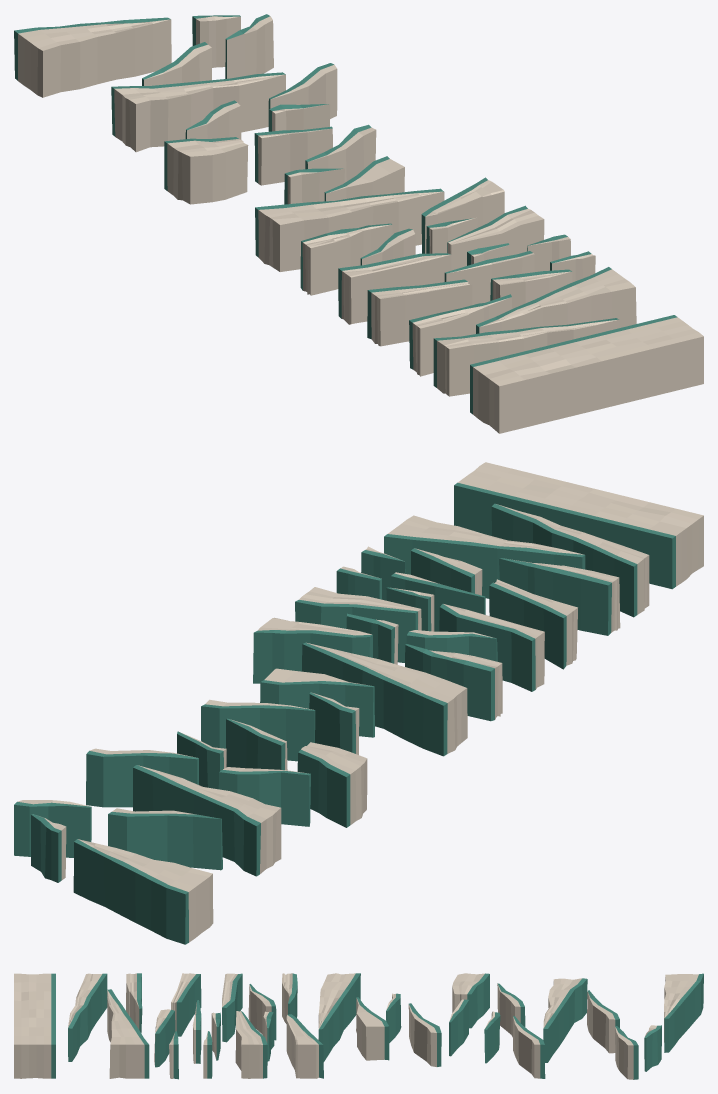
The model's file is contra_level_5.fbx.
3 renders of one model, top to bottom at view 1: azimuth 30°, elevation 25°; view 2: azimuth 150°, elevation 25°; view 3: azimuth 270°, elevation 25°, orthographic. The views are drawn at different scales.
Visible parts, largest first — view 1: Ground, Ground.029, Ground.025, Ground.016, Ground.002, Ground.001, Ground.021, Ground.005, Ground.010, Ground.014, Ground.003, Ground.020 (+17 smaller); view 2: Ground, Ground.029, Ground.016, Ground.025, Ground.002, Ground.001, Ground.026, Ground.003, Ground.021, Ground.010, Ground.015, Ground.024 (+18 smaller); view 3: Ground, Ground.002, Ground.016, Ground.025, Ground.029, Ground.001, Ground.015, Ground.011, Ground.017, Ground.021, Ground.019, Ground.024 (+18 smaller).
Part boxes in pixels (x1,y1,x2,y2): Ground: (470,315,703,433); Ground.029: (14,17,171,97); Ground.025: (111,72,285,152); Ground.016: (255,188,444,271); Ground.002: (476,267,636,333); Ground.001: (433,318,619,396); Ground.021: (164,137,248,204); Ground.005: (367,279,472,346); Ground.010: (338,253,451,324); Ground.014: (300,223,392,295); Ground.003: (409,294,511,376); Ground.020: (254,126,332,185); Ground: (454,462,703,589); Ground.029: (73,839,213,944); Ground.016: (302,642,467,756); Ground.025: (133,765,281,876); Ground.002: (384,515,585,598); Ground.001: (491,503,649,617); Ground.026: (108,808,222,870); Ground.003: (499,558,620,635); Ground.021: (297,742,367,827); Ground.010: (439,604,544,691); Ground.015: (253,617,372,683); Ground.024: (86,748,198,807); Ground: (14,973,55,1078); Ground.002: (107,989,149,1078); Ground.016: (318,973,360,1061); Ground.025: (543,978,587,1062); Ground.029: (664,973,703,1052); Ground.001: (68,973,107,1061); Ground.015: (286,1014,323,1078); Ground.011: (235,1011,267,1078); Ground.017: (356,997,389,1060); Ground.021: (452,973,489,1028); Ground.019: (408,1003,441,1066); Ground.024: (513,1016,545,1078).
Bounding box in the file's own units: 3665 × 845 × 14796.
